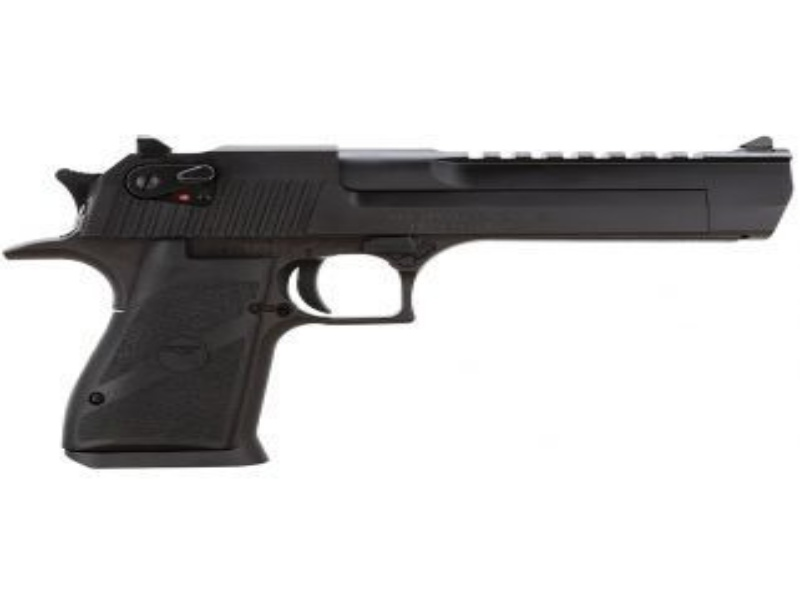gun: (5, 101, 796, 471)
